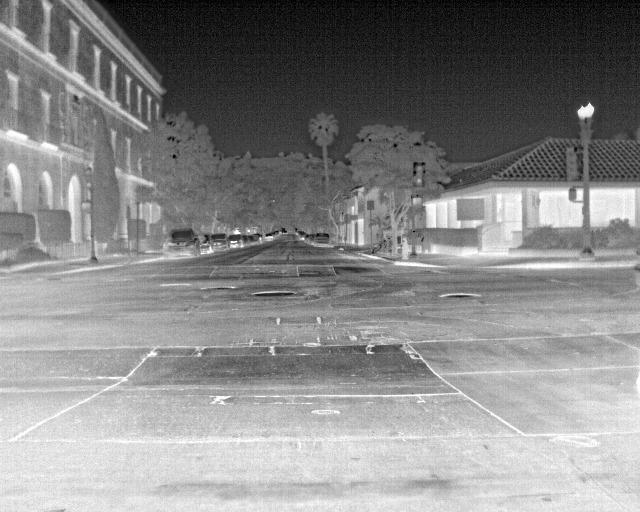bicycle: (164, 227, 200, 257), (209, 233, 229, 252), (226, 233, 242, 247), (314, 233, 331, 246), (262, 232, 274, 243)
